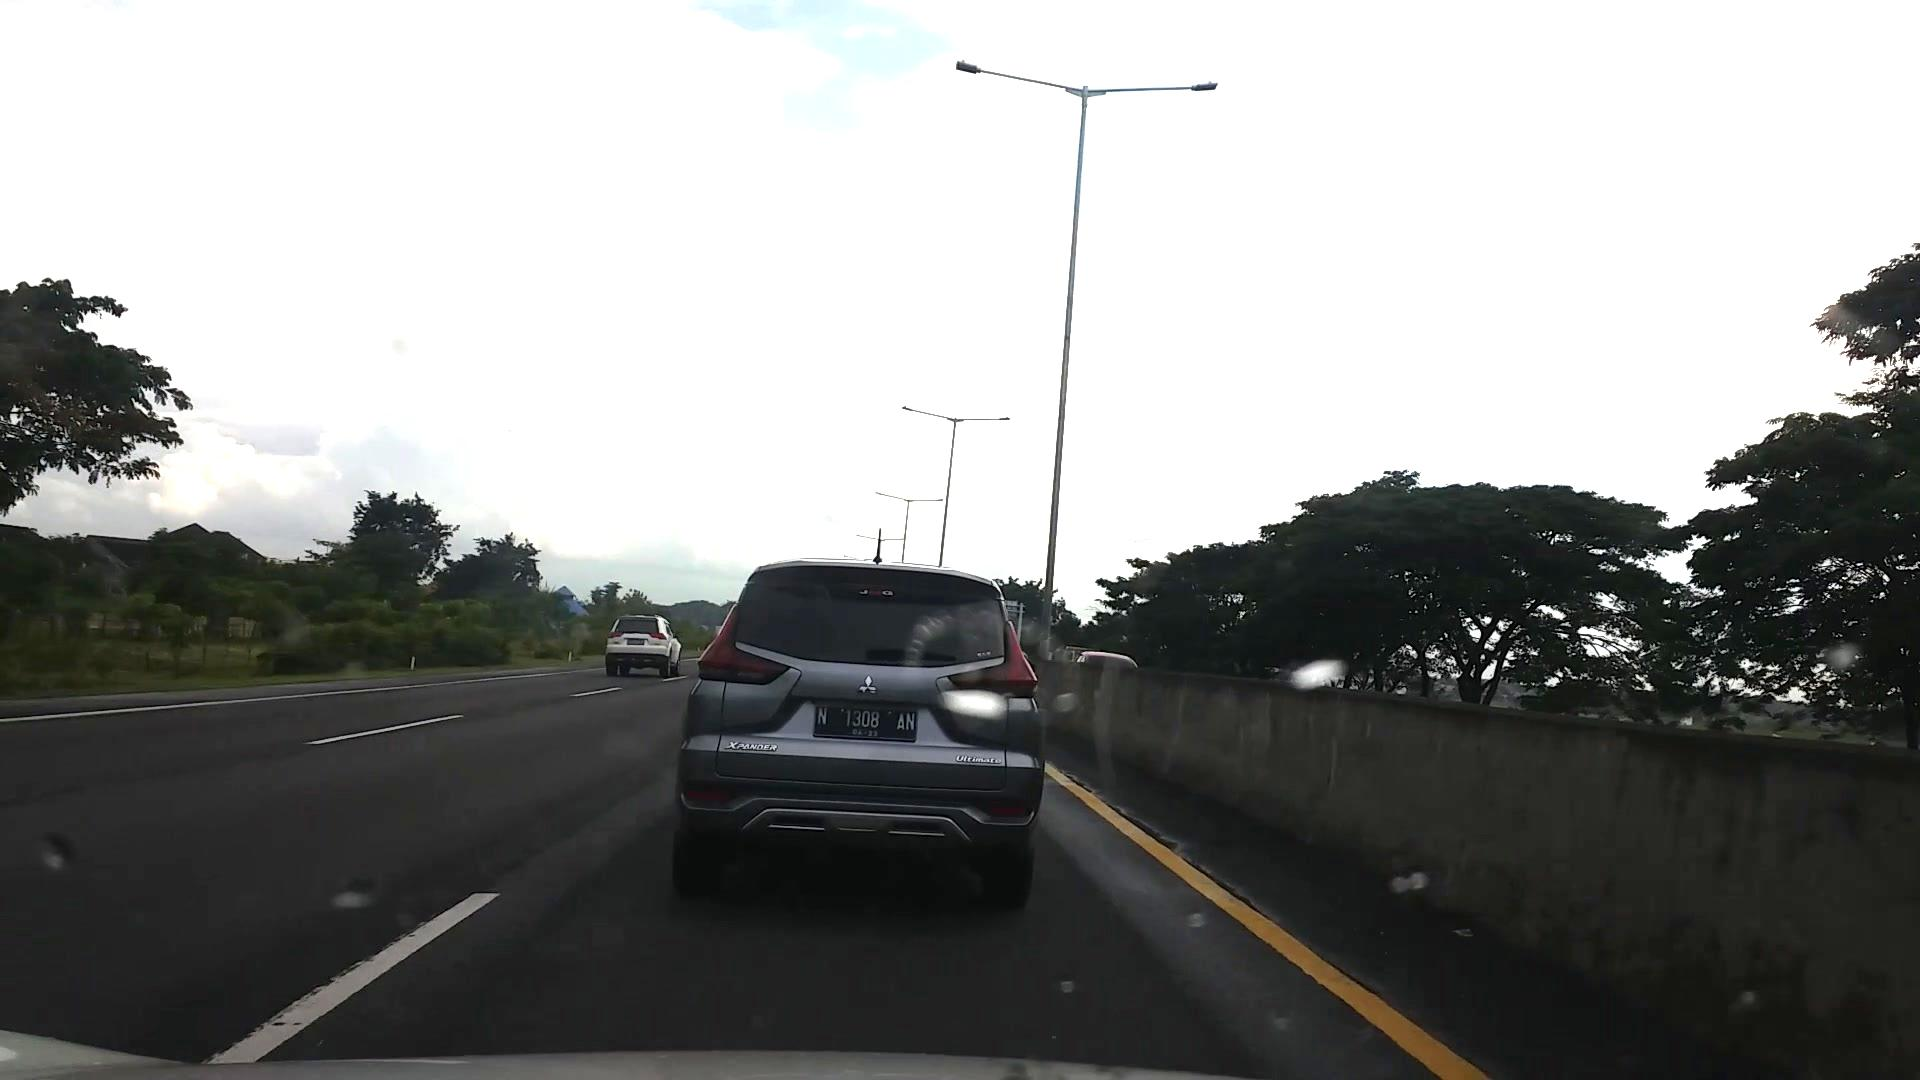plate_positive: (814, 705, 916, 741)
